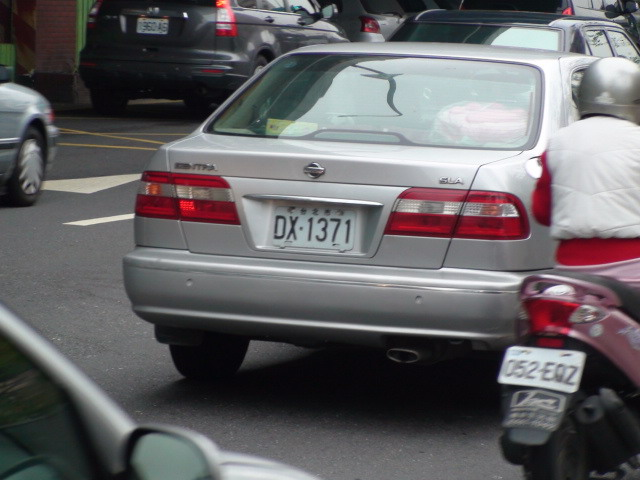plate: (499, 338, 590, 397), (271, 202, 356, 254), (134, 14, 171, 37)
